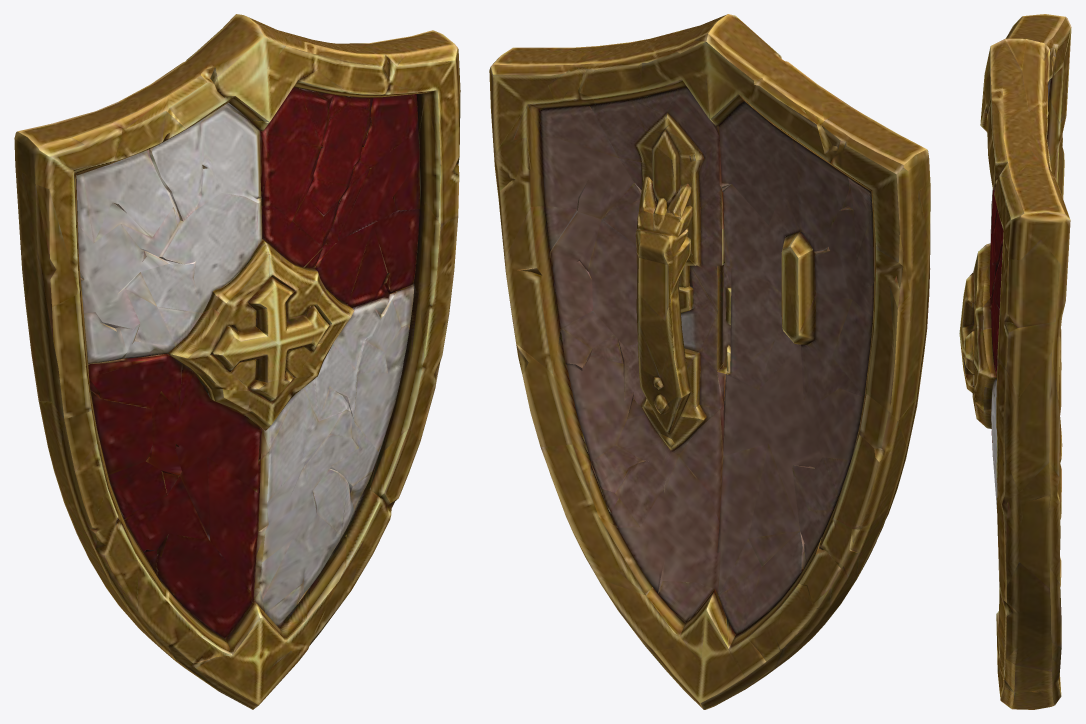
File: penitent_shield.glb
3 views of the same model, side by side, from view 1: azimuth 30°, elevation 25°; view 2: azimuth 150°, elevation 25°; view 3: azimuth 270°, elevation 25° (orthographic). The views are drawn at different scales.
Bounding box in the file's own units: 0.7002 × 1.08 × 0.1637.
Materials: 1 (1 with a texture image).
